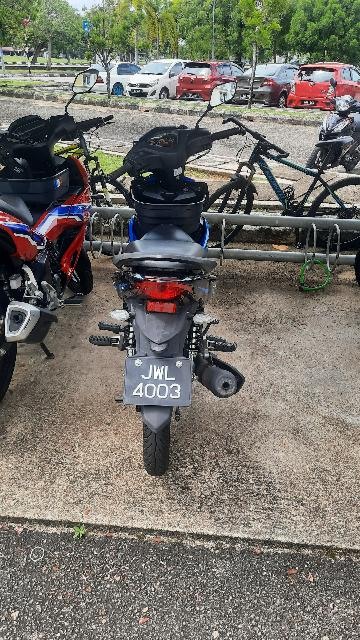License_Plate: (122, 356, 196, 414)
motorcycle: (88, 78, 250, 476)
